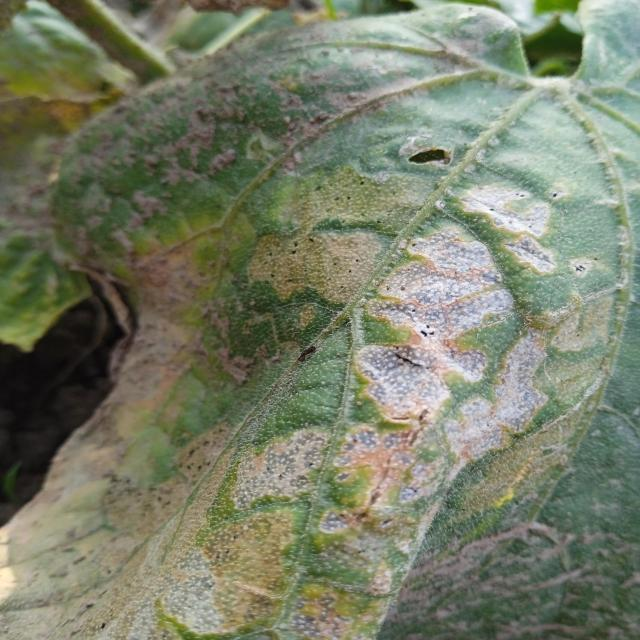cucumber_anthracnose: (84, 34, 616, 589)
